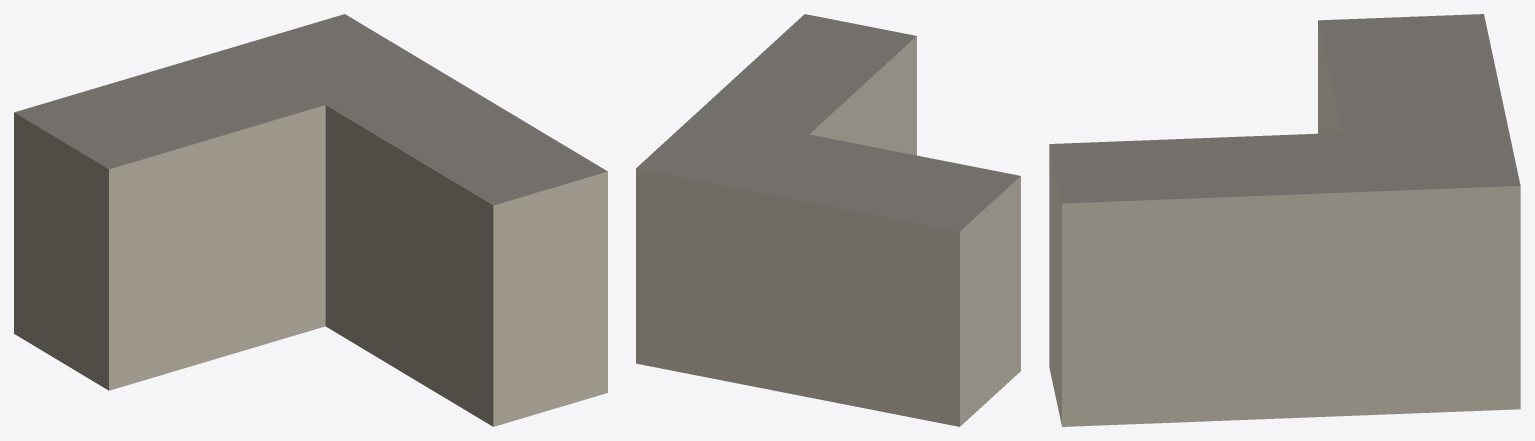
3 views of the same model, side by side, from view 1: azimuth 30°, elevation 25°; view 2: azimuth 150°, elevation 25°; view 3: azimuth 270°, elevation 25° (orthographic). The views are drawn at different scales.
Visible parts, largest first — view 1: HP-w311065013; view 2: HP-w311065013; view 3: HP-w311065013.
Part boxes in pixels (x1,y1,x2,y2): HP-w311065013: (14, 14, 607, 426); HP-w311065013: (636, 14, 1020, 426); HP-w311065013: (1049, 14, 1520, 426).
Bounding box in the file's own units: 27.29 × 15 × 28.67.
